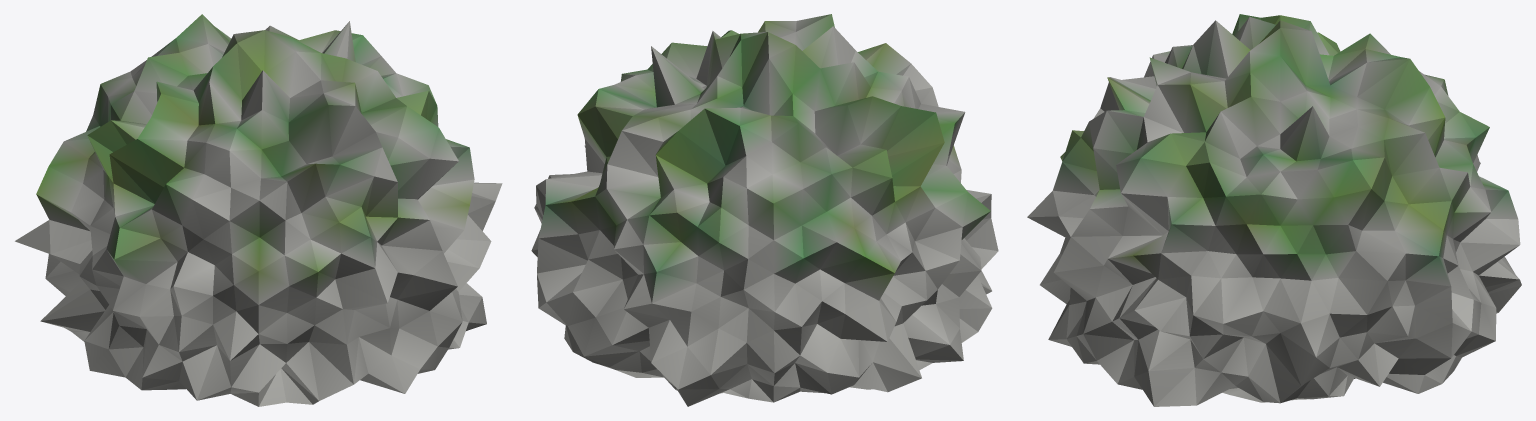
File: rock_0.glb
The picture shows the model from 3 angles, left to right: view 1: azimuth 30°, elevation 25°; view 2: azimuth 150°, elevation 25°; view 3: azimuth 270°, elevation 25°; orthographic projection. The views are drawn at different scales.
Visible parts, largest first — view 1: world; view 2: world; view 3: world.
Part boxes in pixels (x1,y1,x2,y2): world: [15, 14, 502, 406]; world: [531, 14, 998, 406]; world: [1027, 14, 1521, 406].
Size of the model in its own units: 0.5698 by 0.3891 by 0.5857.
